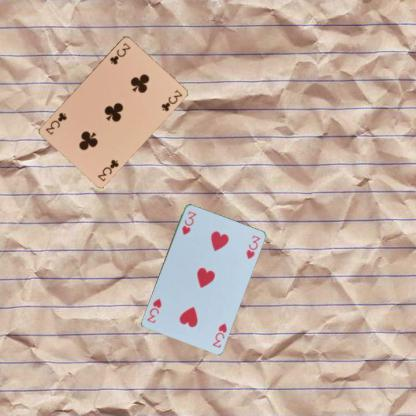3c: (107, 40, 132, 66), (95, 156, 120, 182)
3h: (179, 208, 198, 236), (210, 320, 228, 349)
